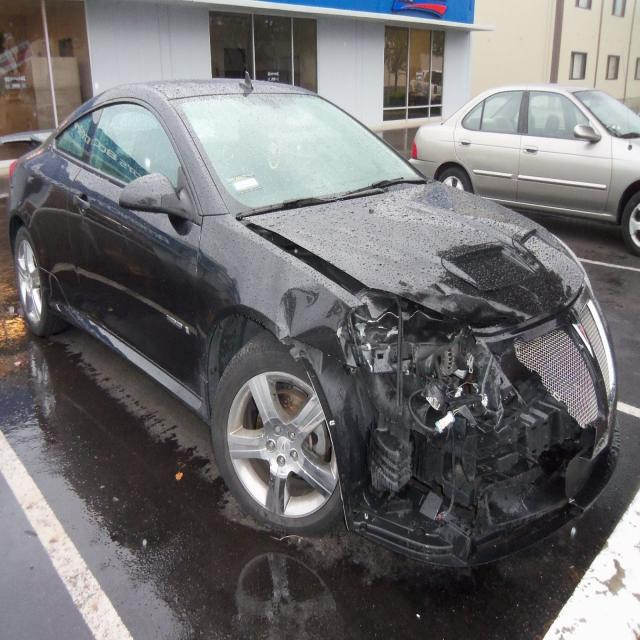crush: (236, 213, 601, 564)
